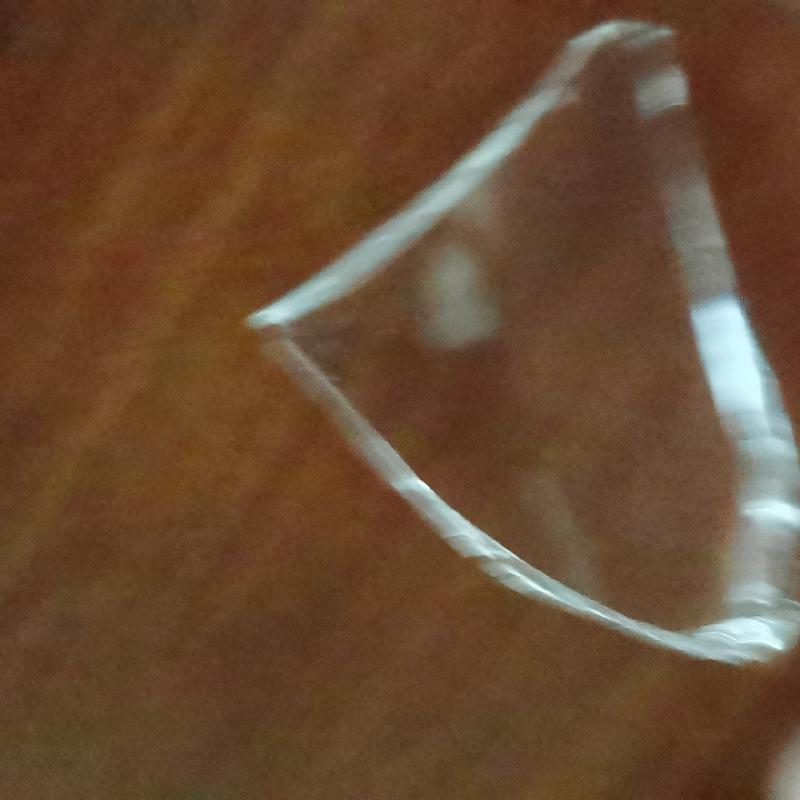glass: (242, 20, 800, 664)
